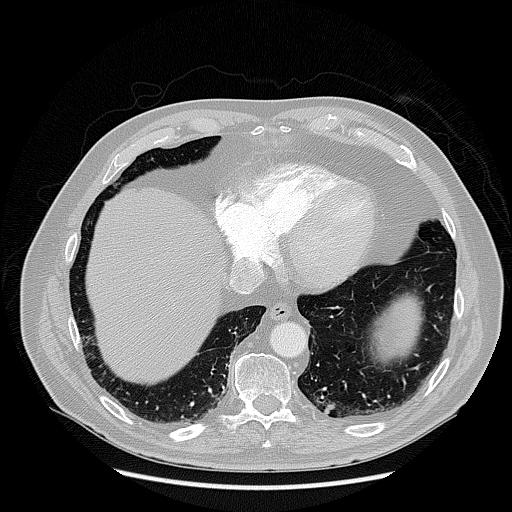nodule: (323, 402, 336, 415)
